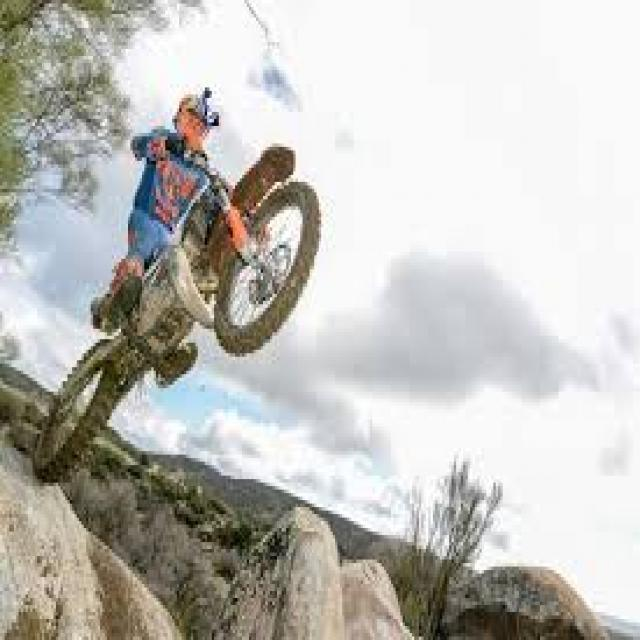Wheeling: (26, 85, 327, 478)
